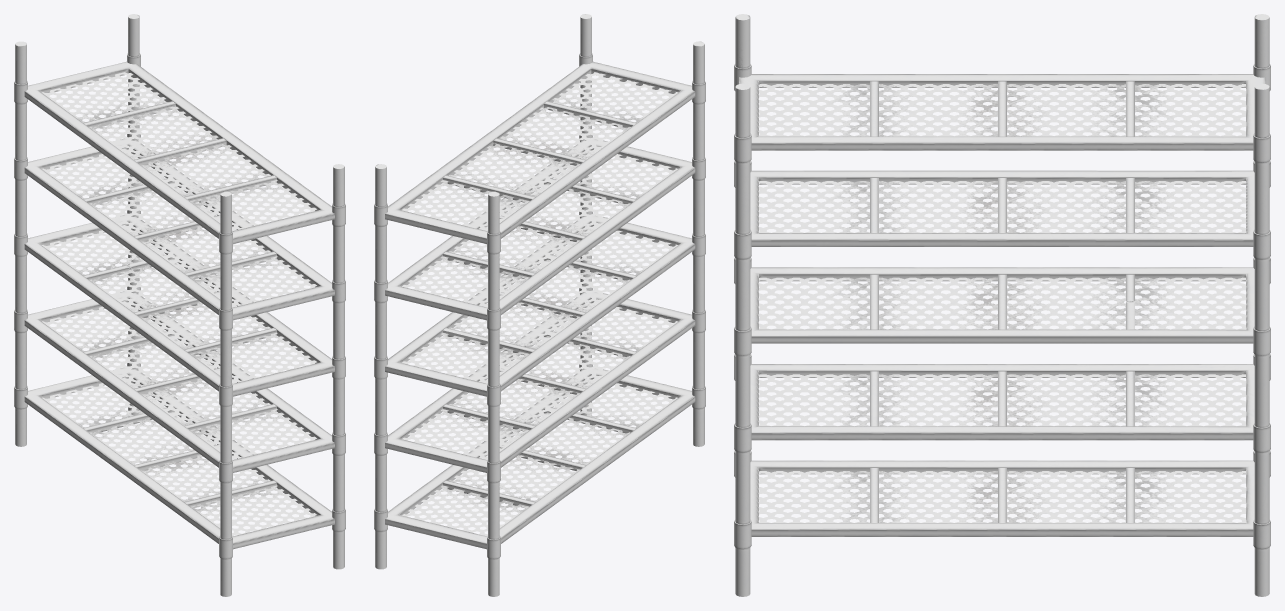
File: Rack.fbx
The picture shows the model from 3 angles, left to right: view 1: azimuth 30°, elevation 25°; view 2: azimuth 150°, elevation 25°; view 3: azimuth 270°, elevation 25°; orthographic projection. The views are drawn at different scales.
Visible parts, largest first — view 1: Cylinder; view 2: Cylinder; view 3: Cylinder.
Part boxes in pixels (x1,y1,x2,y2): Cylinder: (14,14,345,596); Cylinder: (374,14,705,596); Cylinder: (734,14,1270,596).
Size of the model in its own units: 285 by 873 by 838.
